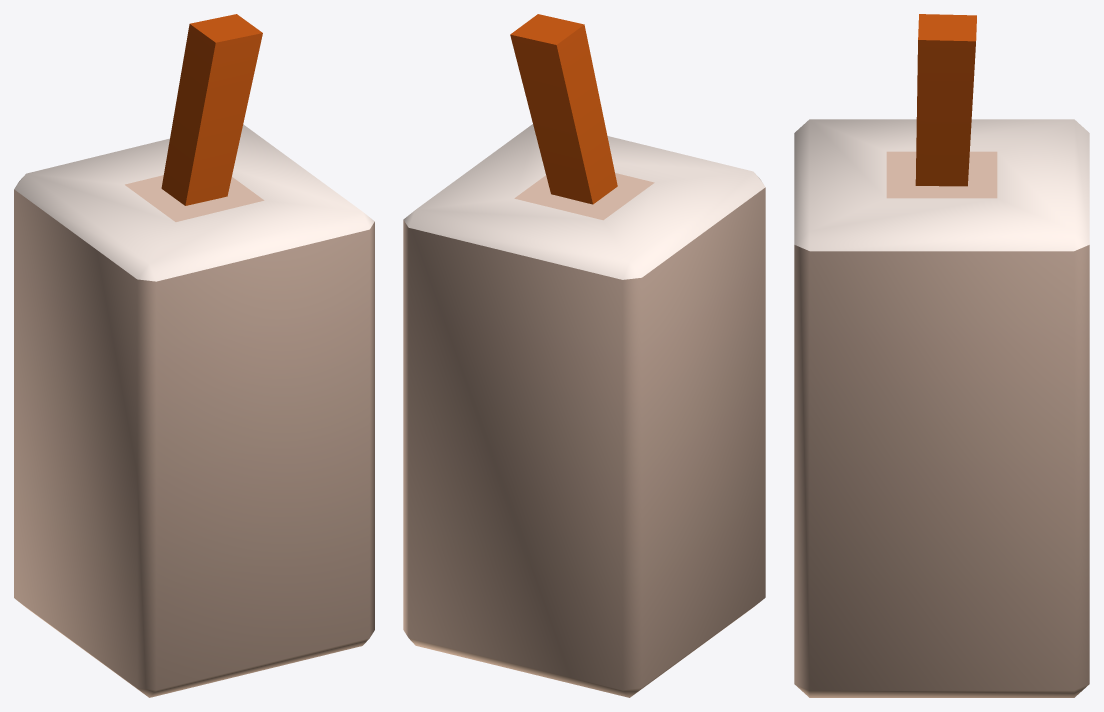
File: candle.fbx
The picture shows the model from 3 angles, left to right: view 1: azimuth 30°, elevation 25°; view 2: azimuth 150°, elevation 25°; view 3: azimuth 270°, elevation 25°; orthographic projection. The views are drawn at different scales.
Visible parts, largest first — view 1: candle; view 2: candle; view 3: candle.
Boxes of the visible parts, box(x1,y1,x2,y2) form: candle: box(14, 14, 374, 697); candle: box(403, 14, 765, 697); candle: box(794, 14, 1089, 697).
Bounding box in the file's own units: 0.1898 × 0.4498 × 0.1898.
